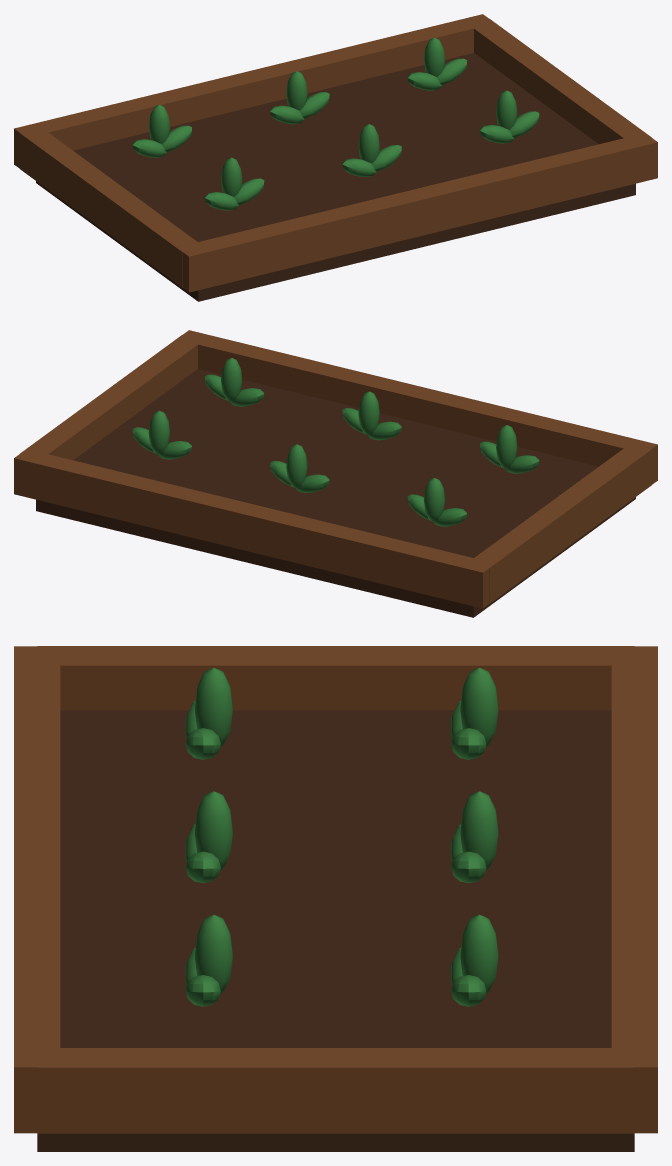
File: farm_bed.obj
3 views of the same model, one above another, from view 1: azimuth 30°, elevation 25°; view 2: azimuth 150°, elevation 25°; view 3: azimuth 270°, elevation 25° (orthographic). The views are drawn at different scales.
Visible parts, largest first — view 1: BedFrame, BedSoil, CropLeaves; view 2: BedFrame, BedSoil, CropLeaves; view 3: BedSoil, BedFrame, CropLeaves.
Part boxes in pixels (<box>): BedFrame: <box>14,14,657,292</box>; BedSoil: <box>36,53,635,301</box>; CropLeaves: <box>132,37,539,210</box>; BedFrame: <box>14,330,657,608</box>; BedSoil: <box>36,369,635,617</box>; CropLeaves: <box>132,358,539,526</box>; BedSoil: <box>37,710,634,1151</box>; BedFrame: <box>14,646,657,1133</box>; CropLeaves: <box>185,668,498,1006</box>.
Size of the model in its own units: 7.51 by 1.39 by 4.85.
